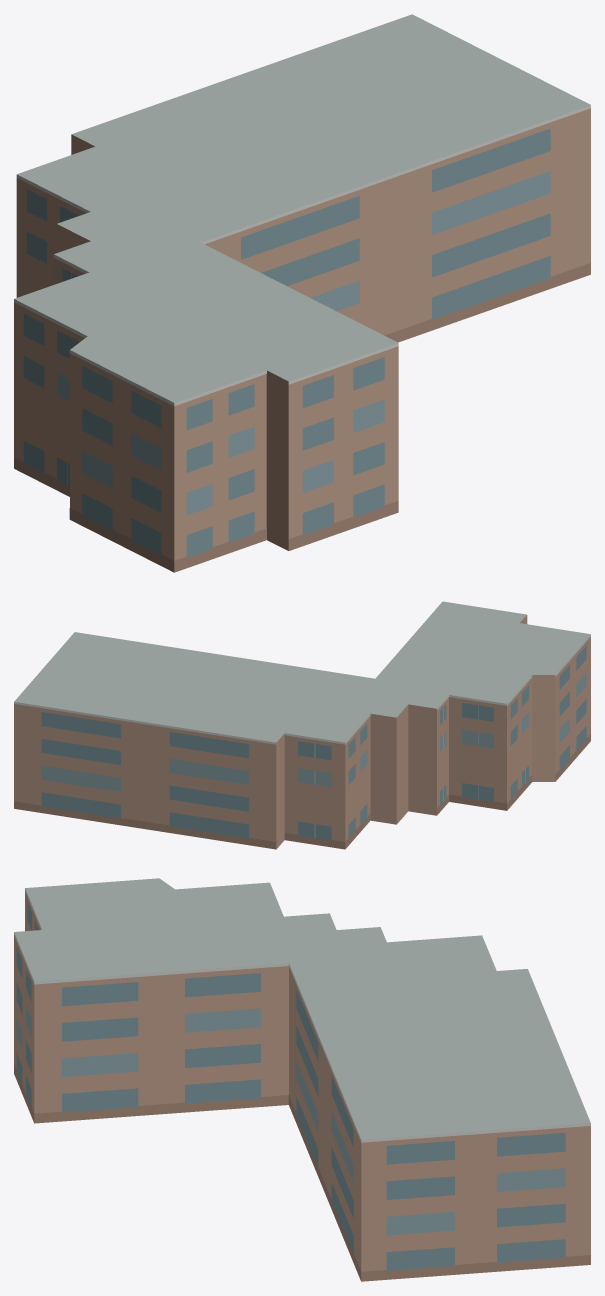
Rendered from residential-446ce9c4-4e2c-46fe-abf7-1a7f8631acda.glb.
The picture shows the model from 3 angles, top to bottom: view 1: azimuth 30°, elevation 25°; view 2: azimuth 150°, elevation 25°; view 3: azimuth 270°, elevation 25°; orthographic projection. The views are drawn at different scales.
Parts seen in each view (by area): view 1: residential-446ce9c4-4e2c-46fe-abf7-1a7f8631acda.tmp; view 2: residential-446ce9c4-4e2c-46fe-abf7-1a7f8631acda.tmp; view 3: residential-446ce9c4-4e2c-46fe-abf7-1a7f8631acda.tmp.
Part boxes in pixels (bbox=[...]): residential-446ce9c4-4e2c-46fe-abf7-1a7f8631acda.tmp: bbox=[14, 14, 590, 572]; residential-446ce9c4-4e2c-46fe-abf7-1a7f8631acda.tmp: bbox=[14, 601, 590, 849]; residential-446ce9c4-4e2c-46fe-abf7-1a7f8631acda.tmp: bbox=[14, 878, 590, 1281].
Bounding box in the file's own units: 48.29 × 12.2 × 45.
